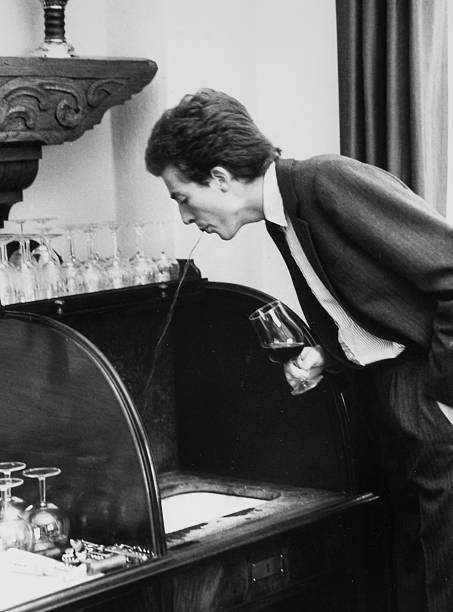Spitting: (122, 65, 295, 291)
